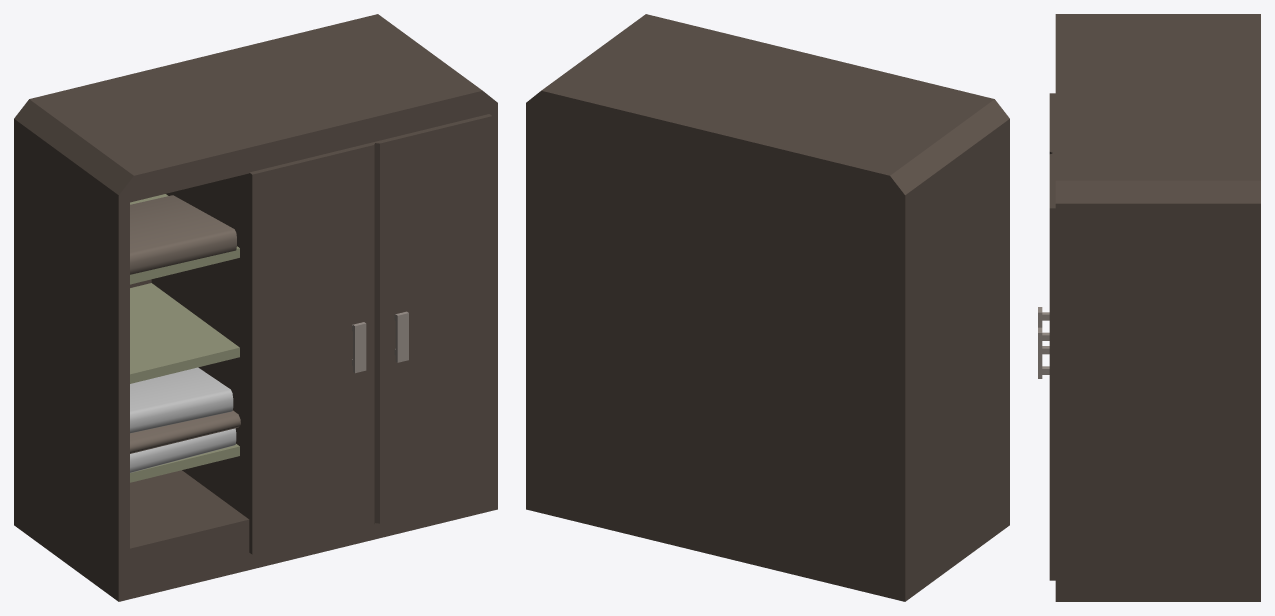
The model's file is cupboard.fbx.
The picture shows the model from 3 angles, left to right: view 1: azimuth 30°, elevation 25°; view 2: azimuth 150°, elevation 25°; view 3: azimuth 270°, elevation 25°; orthographic projection. The views are drawn at different scales.
Parts seen in each view (by area): view 1: cupboard; view 2: cupboard; view 3: cupboard.
Boxes of the visible parts, x1,y1,x2,y2 form: cupboard: (14,14,497,601); cupboard: (526,14,1009,601); cupboard: (1038,14,1260,601).
Bounding box in the file's own units: 243 × 259 × 126.
